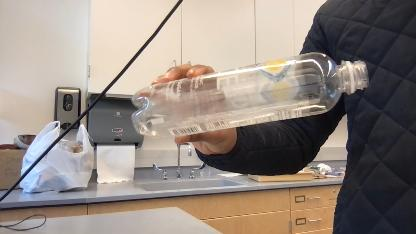Plastic Bottle: (125, 58, 373, 144)
